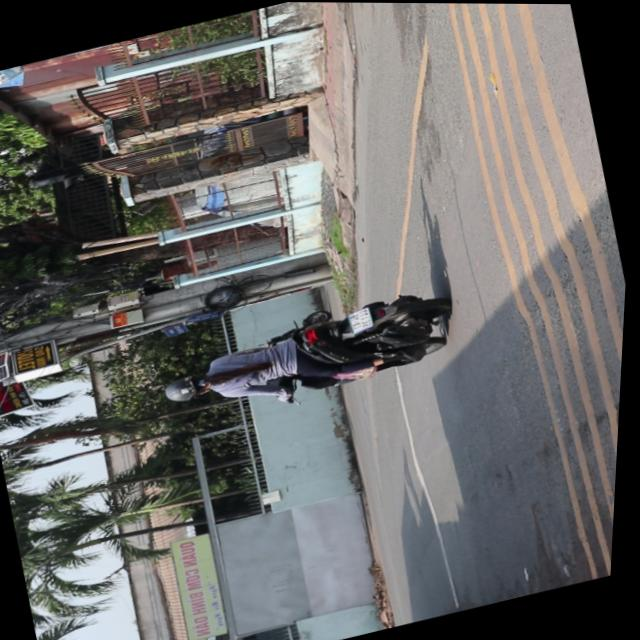helmet: (163, 368, 216, 404)
licenseplate: (152, 277, 467, 429)
nohelmet: (348, 304, 377, 331)
